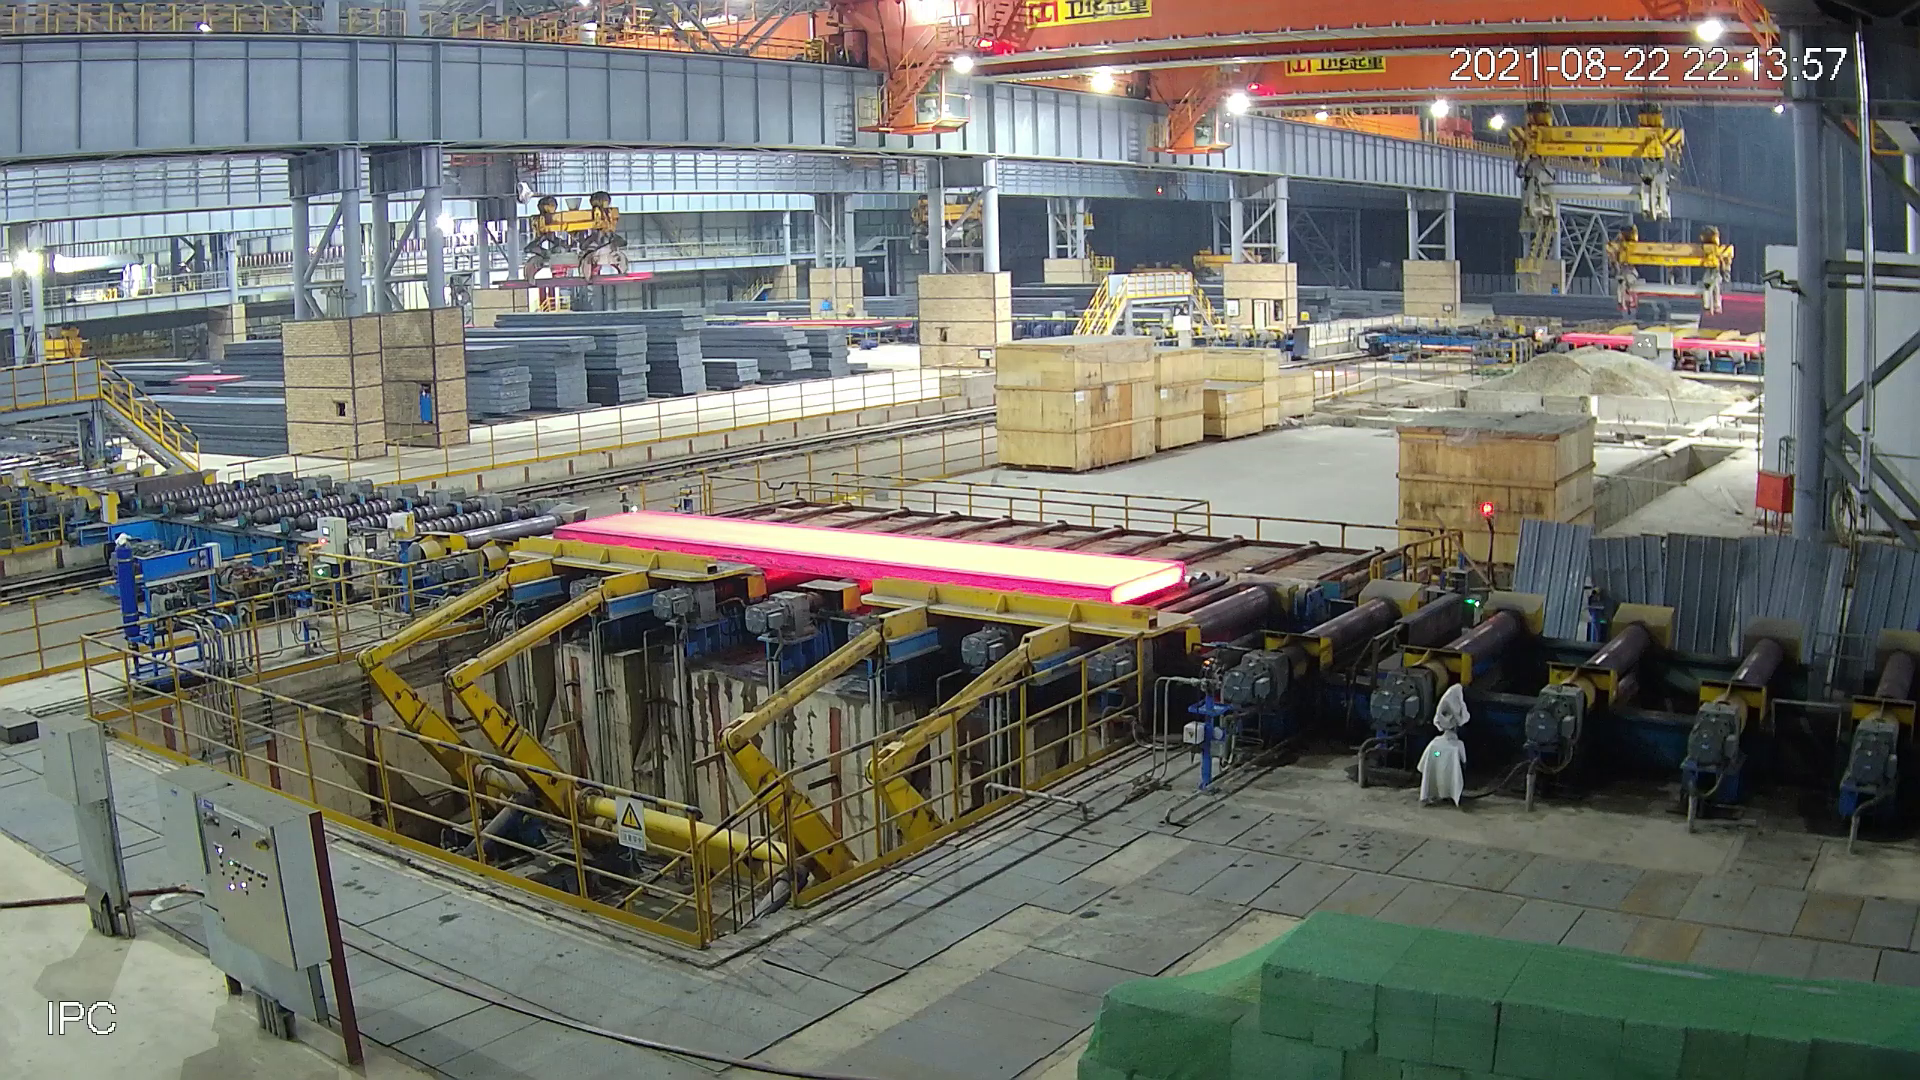slab: (553, 506, 1185, 604)
